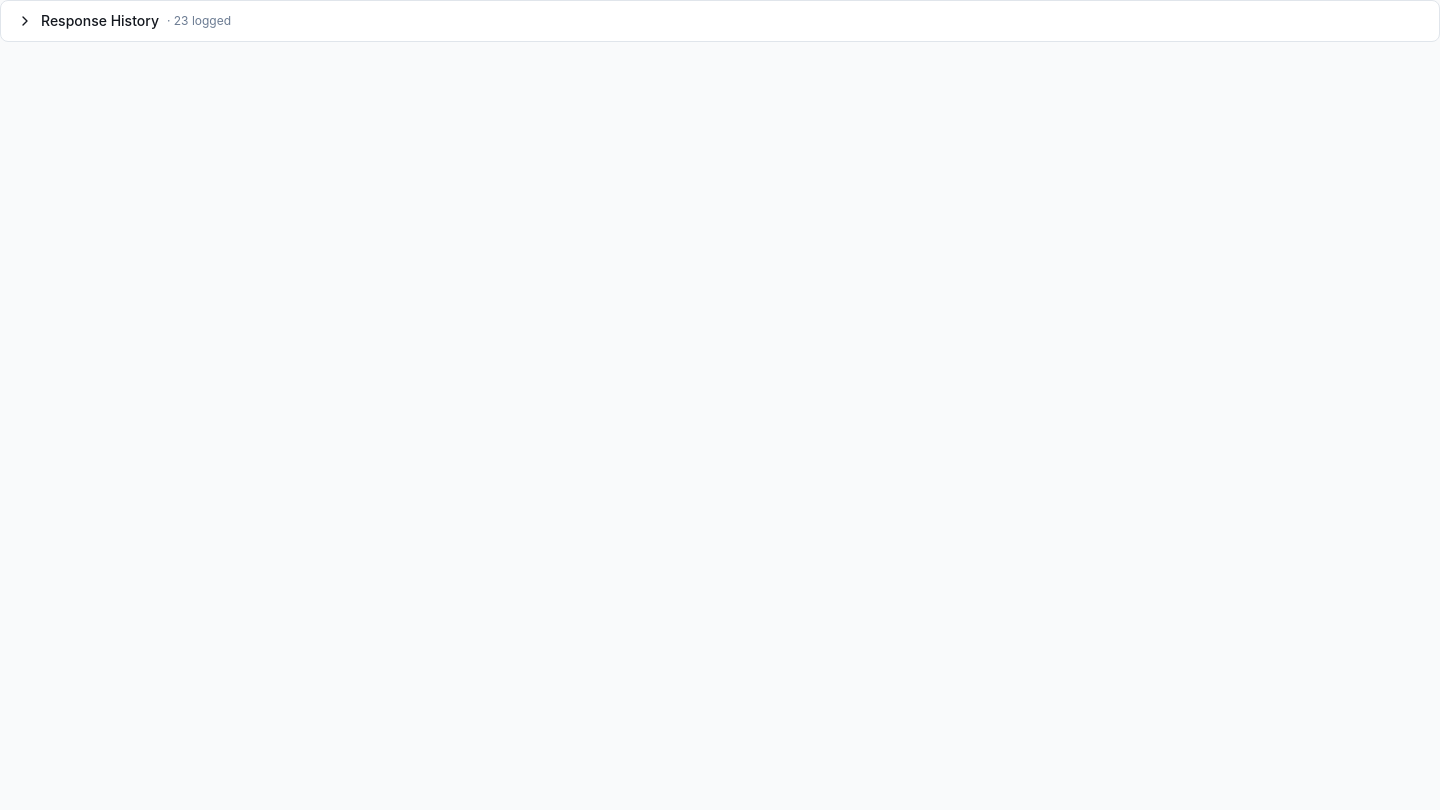
ResponseHistoryPanel — table, filters and paging › narrows by week and resets to the first page
What coordinates should you click on to do the following:
click the button "Response History · 23 logged"
I would click on:
 (100, 20)
Its box is left=1, top=1, right=1439, bottom=41.
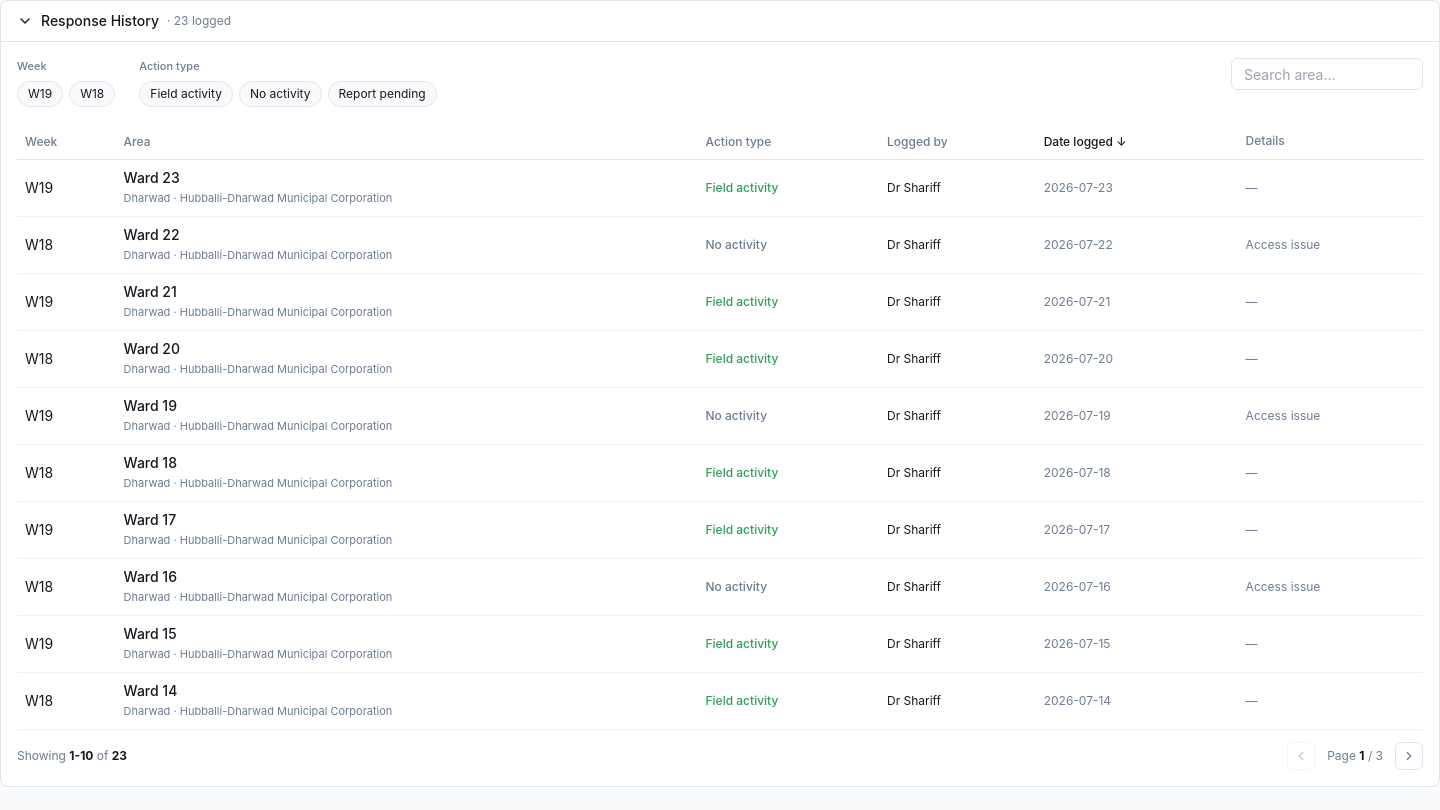
What coordinates should you click on to do the following:
click the button named "Next page"
I would click on:
 (1409, 756)
Its box is left=1395, top=742, right=1423, bottom=770.
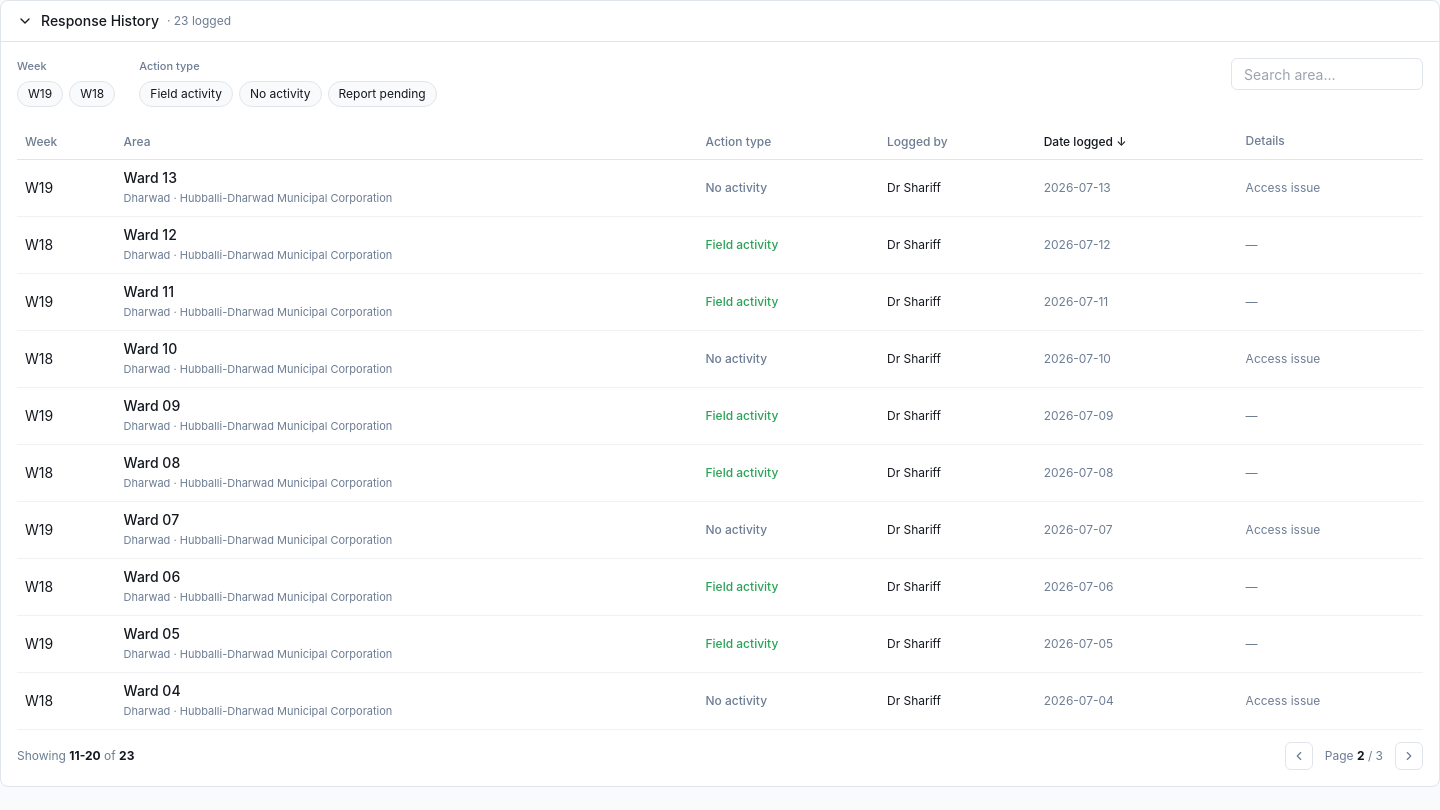
What coordinates should you click on to do the following:
click the button "W18"
I would click on:
 (92, 94)
Its box is left=69, top=80, right=115, bottom=106.
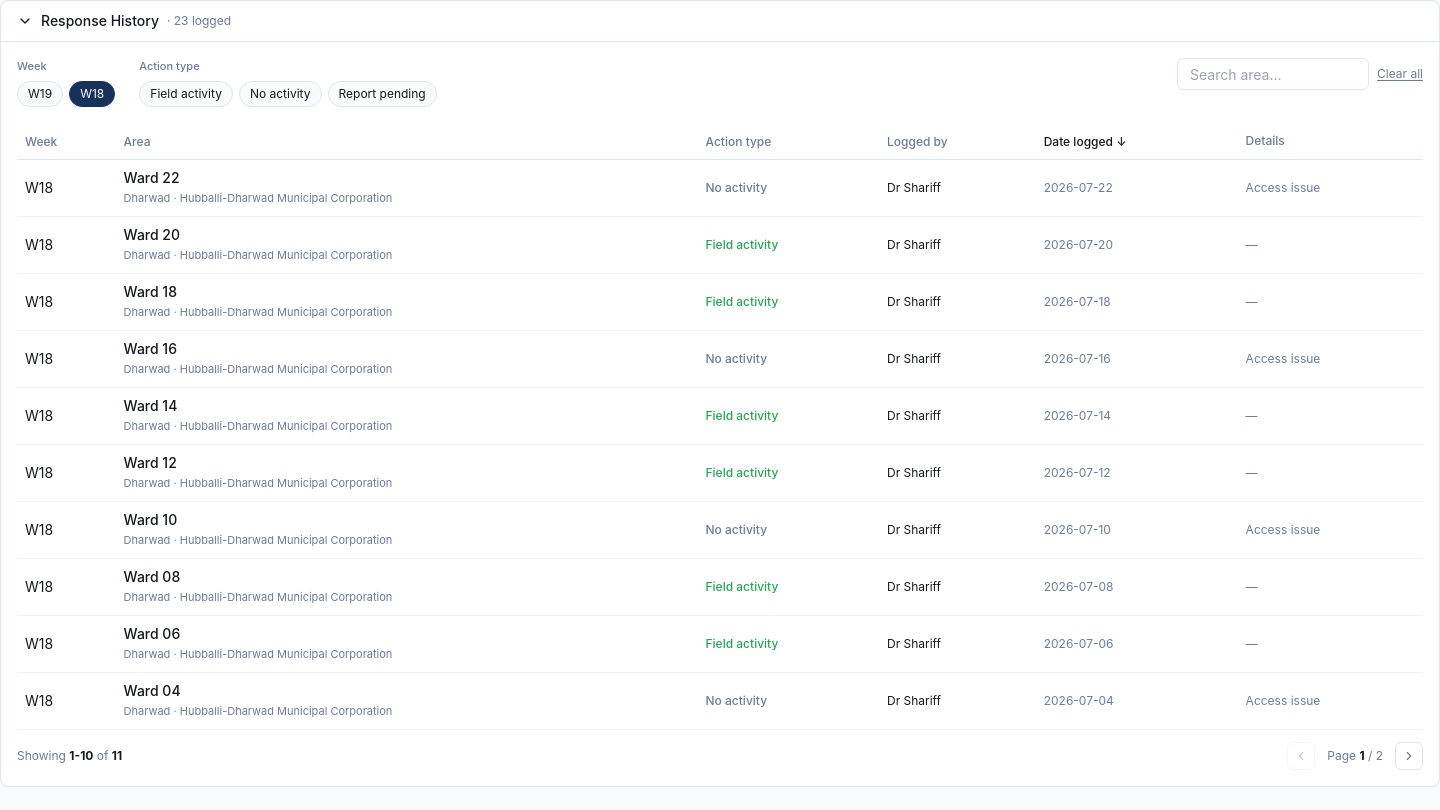
Now the text "Showing 1-10 of 11" is shown, box left=17, top=748, right=122, bottom=764
